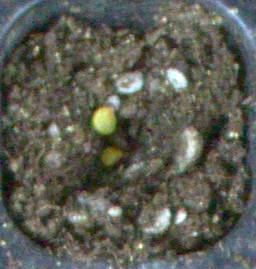chilli seed: (92, 104, 118, 135), (99, 145, 123, 166)
